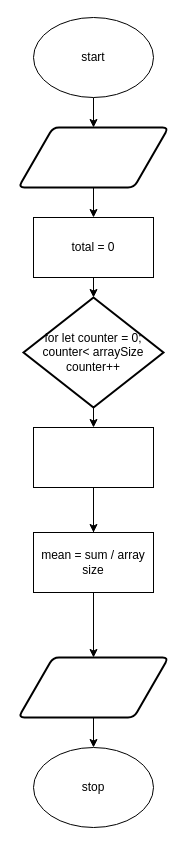
Image size: 186x845. Some labels were removed from this diagram. The centre of each missing label's shape, as x and y in pixels:
"get numberArray" goes at [93,157].
"print mean" goes at [93,687].
"sum = counter" goes at [93,457].
